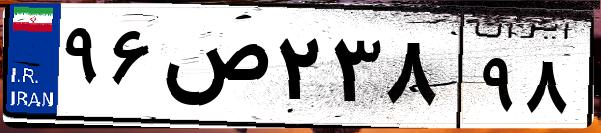2: (270, 28, 330, 110)
3: (330, 28, 385, 110)
6: (110, 28, 158, 98)
8: (385, 28, 445, 110), (525, 38, 570, 115)
9: (57, 26, 110, 100), (475, 38, 525, 113)
ص: (158, 20, 270, 120)
